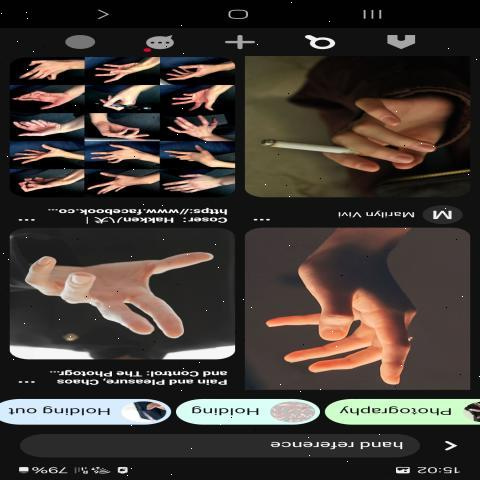Hands: (263, 246, 425, 394), (11, 241, 212, 346), (304, 85, 449, 182), (80, 112, 156, 144), (158, 166, 234, 196), (10, 79, 78, 111), (83, 166, 155, 194), (85, 54, 157, 82), (157, 143, 230, 169), (12, 115, 72, 145), (159, 114, 219, 144), (87, 143, 160, 167), (162, 58, 222, 86), (7, 143, 76, 163), (157, 88, 221, 109)
